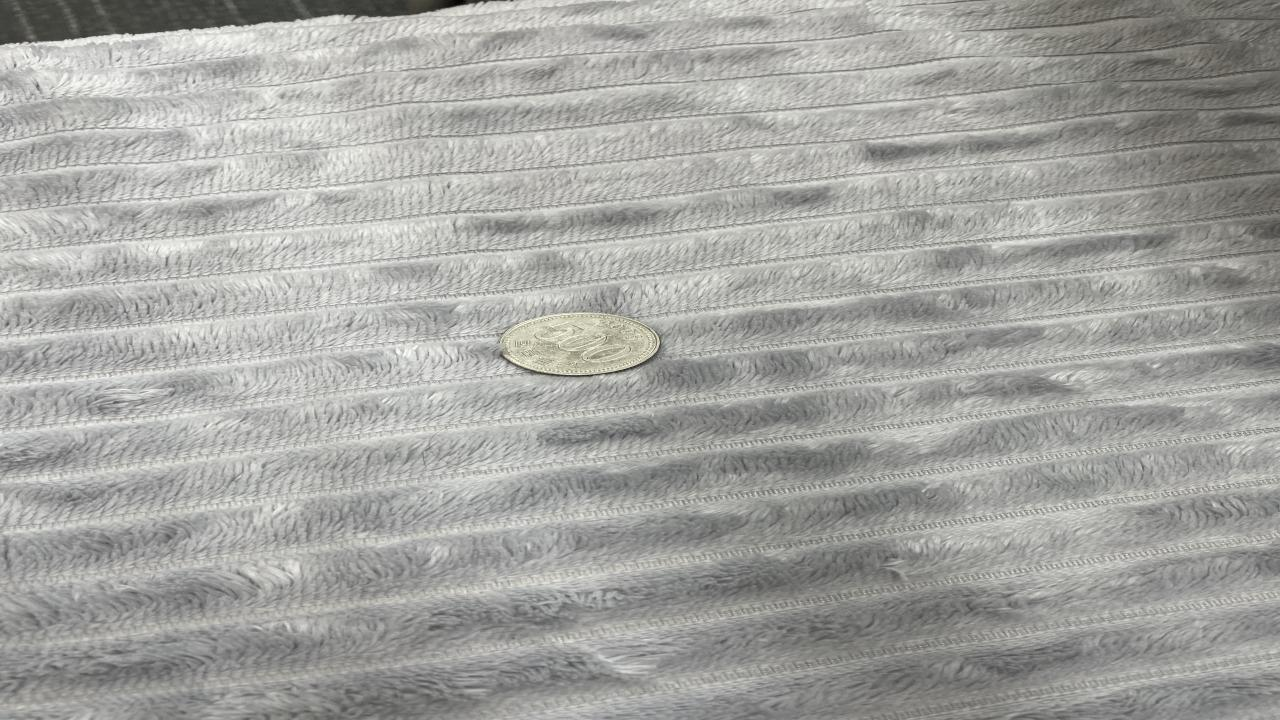coin: (498, 312, 659, 376)
